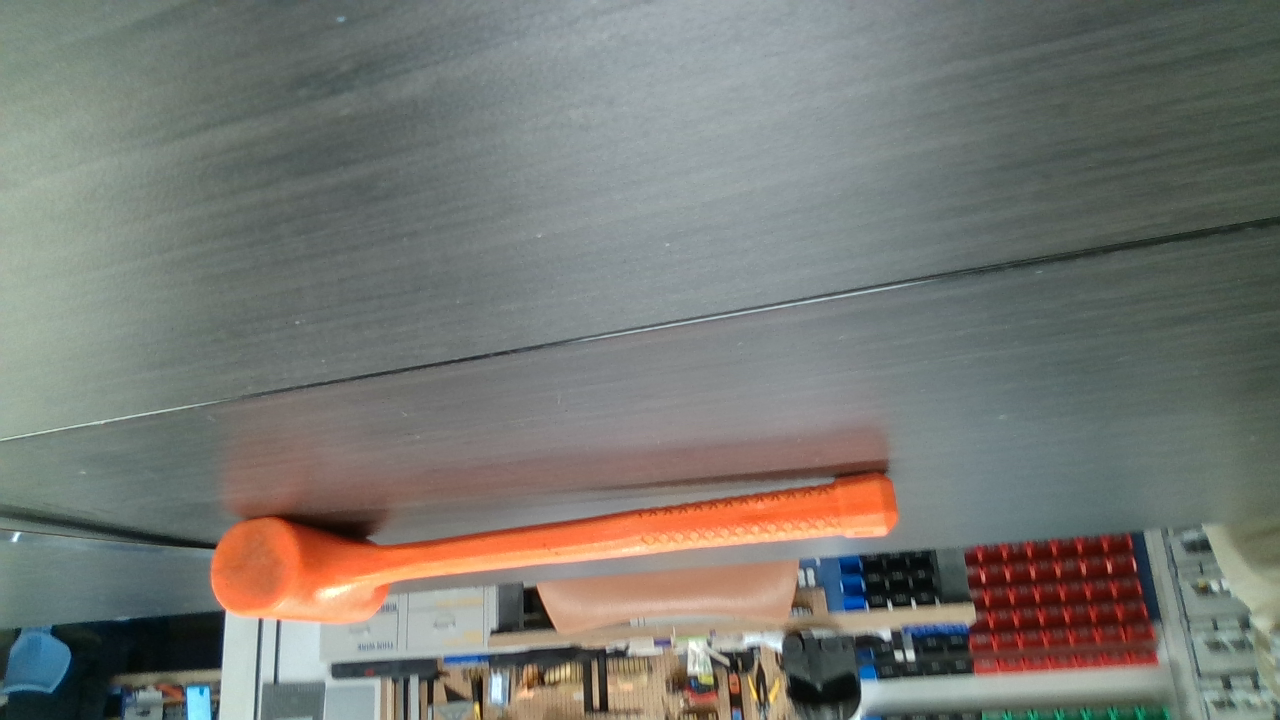Orange Hammer: (214, 466, 896, 622), (530, 562, 806, 636)
